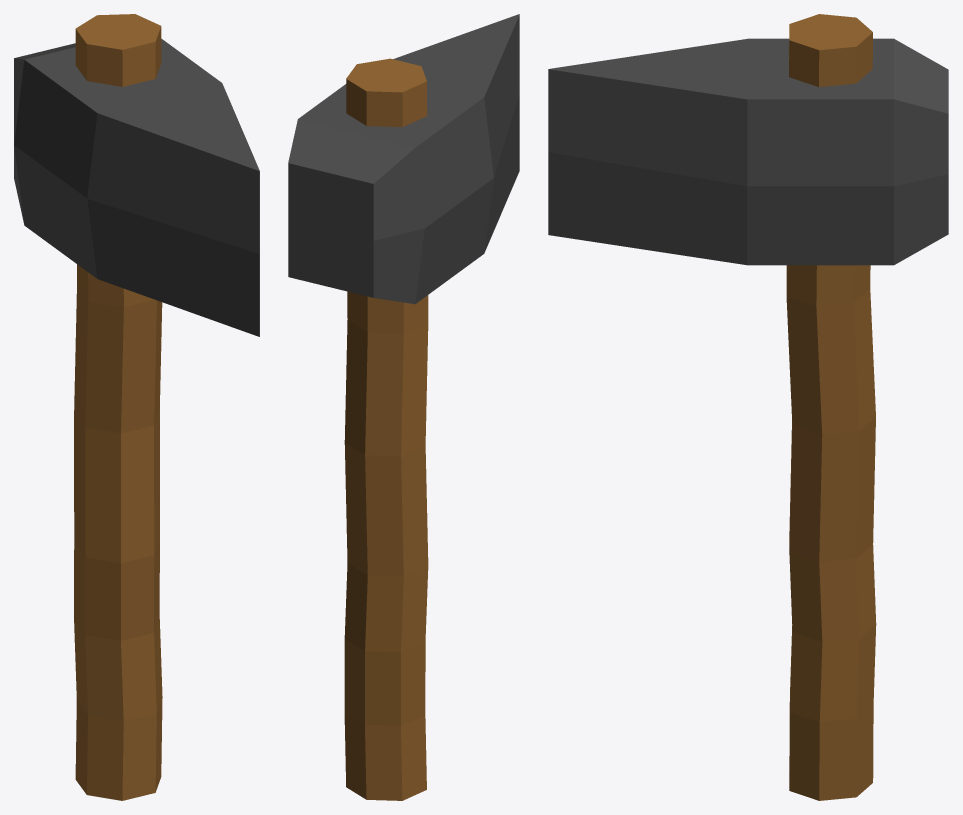
The model's file is BessereAxt.fbx.
3 views of the same model, side by side, from view 1: azimuth 30°, elevation 25°; view 2: azimuth 150°, elevation 25°; view 3: azimuth 270°, elevation 25° (orthographic). The views are drawn at different scales.
Parts seen in each view (by area): view 1: AxeStaff; view 2: AxeStaff; view 3: AxeStaff.
Boxes of the visible parts, x1,y1,x2,y2 form: AxeStaff: (14,14,259,800); AxeStaff: (288,14,519,800); AxeStaff: (548,14,948,800).
Bounding box in the file's own units: 0.2632 × 1.32 × 0.6379.
